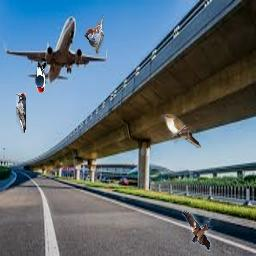Cuckoo: (161, 114, 201, 148)
Sparrow: (84, 14, 104, 54)
Swallow: (182, 211, 215, 251)
Woodpecker: (35, 60, 47, 94), (16, 93, 26, 133)
